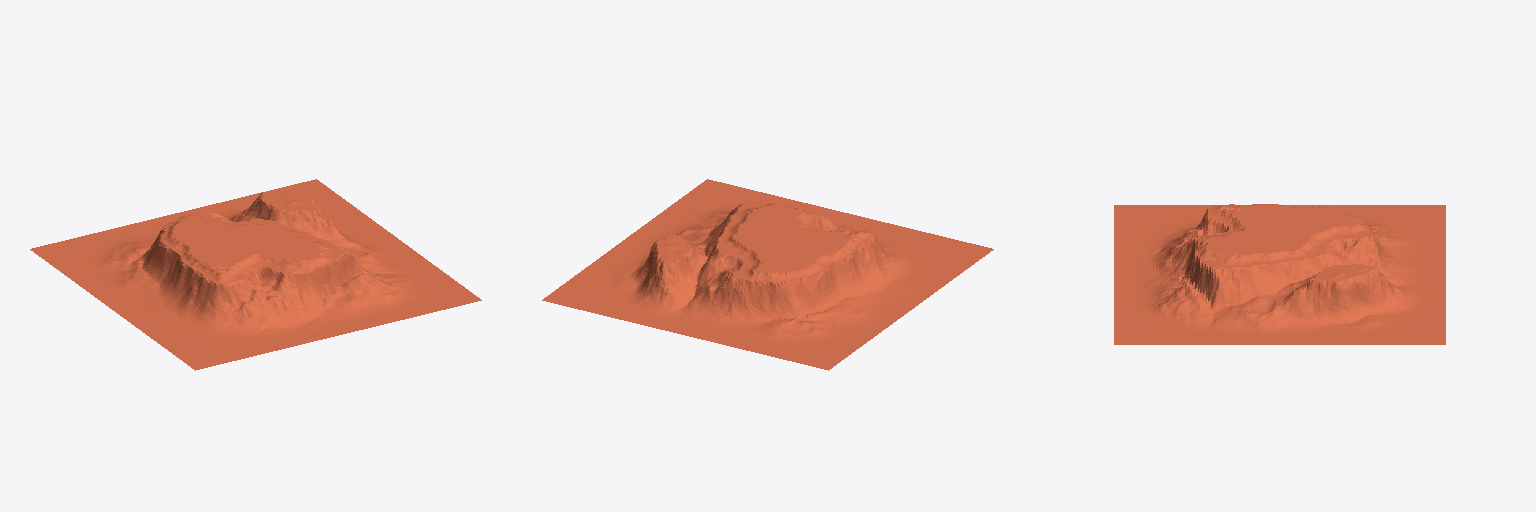
The model's file is PlanetTerrainMesa.obj.
3 renders of one model, left to right at view 1: azimuth 30°, elevation 25°; view 2: azimuth 150°, elevation 25°; view 3: azimuth 270°, elevation 25°, orthographic.
Parts seen in each view (by area): view 1: MarsTerrain_6:Landscape_001_Planet_Surface_Material; view 2: MarsTerrain_6:Landscape_001_Planet_Surface_Material; view 3: MarsTerrain_6:Landscape_001_Planet_Surface_Material.
Part boxes in pixels (bbox=[...]): MarsTerrain_6:Landscape_001_Planet_Surface_Material: bbox=[30, 179, 481, 370]; MarsTerrain_6:Landscape_001_Planet_Surface_Material: bbox=[542, 179, 993, 370]; MarsTerrain_6:Landscape_001_Planet_Surface_Material: bbox=[1114, 204, 1445, 344].
Size of the model in its own units: 16 by 2 by 16.